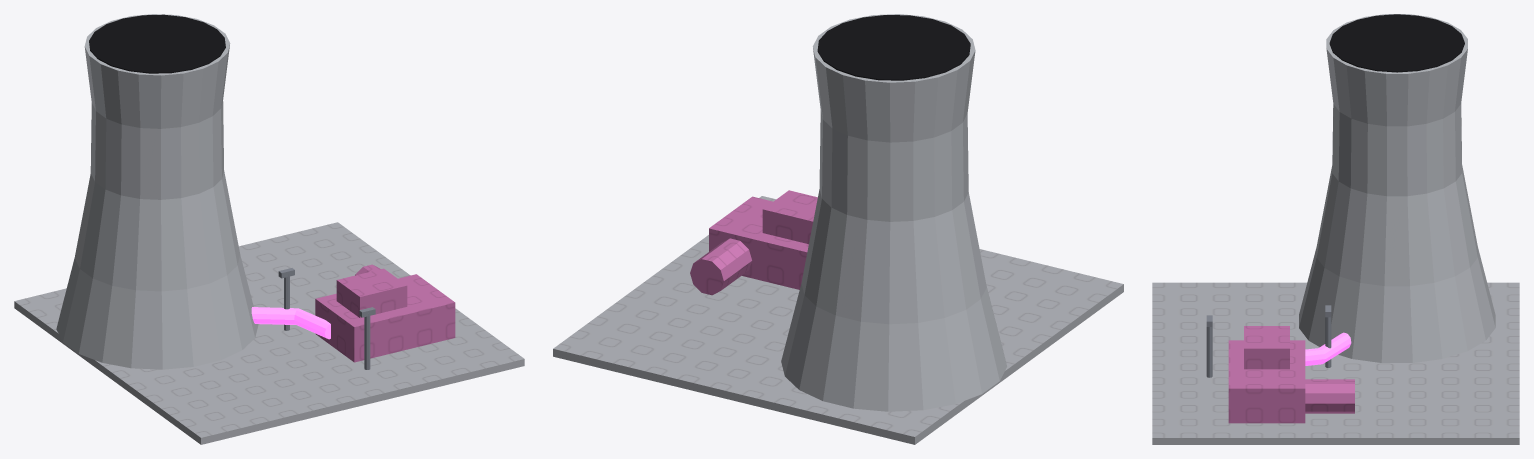
Rendered from Petite_Centrale_Nucleaire.glb.
The picture shows the model from 3 angles, left to right: view 1: azimuth 30°, elevation 25°; view 2: azimuth 150°, elevation 25°; view 3: azimuth 270°, elevation 25°; orthographic projection. The views are drawn at different scales.
Visible parts, largest first — view 1: Petite_Centrale_Nucleaire; view 2: Petite_Centrale_Nucleaire; view 3: Petite_Centrale_Nucleaire.
Part boxes in pixels (x1,y1,x2,y2): Petite_Centrale_Nucleaire: [14, 14, 524, 444]; Petite_Centrale_Nucleaire: [553, 14, 1123, 444]; Petite_Centrale_Nucleaire: [1152, 14, 1519, 444].
Bounding box in the file's own units: 9.77 × 8.23 × 9.6.
6 materials, 2 textured.
